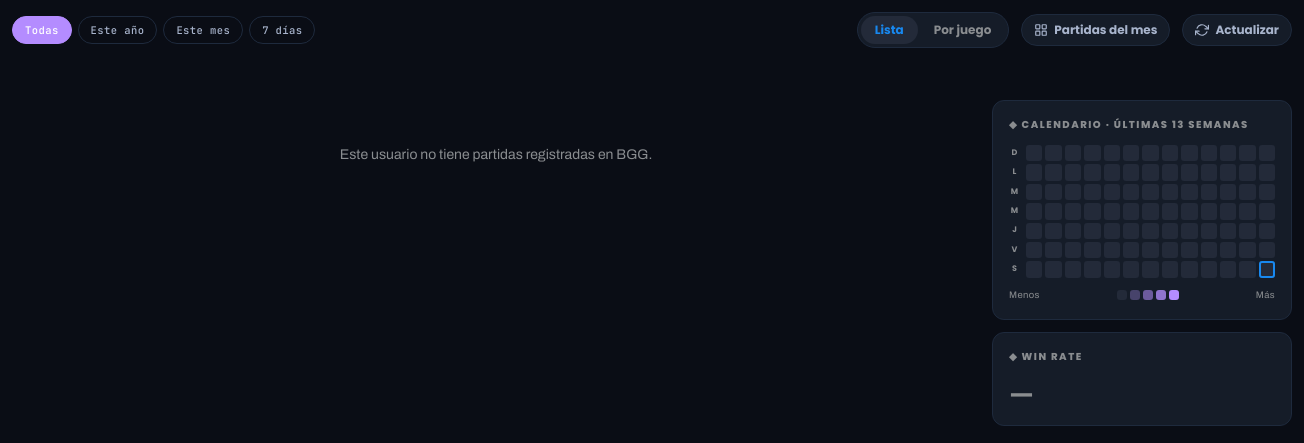
Scenario: <PartidasPanel> › syncs cooldown from a 429 response header
Click the button with aria-label "actualizar partidas" at (1237, 30), box [1182, 14, 1292, 46]
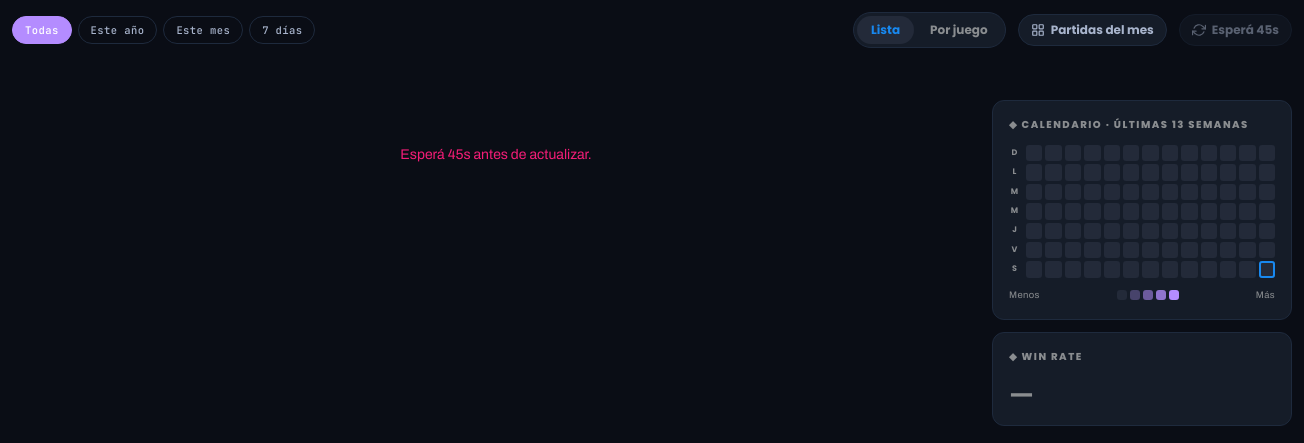
Now the button with aria-label "actualizar partidas" reads "Esperá 45s", box [1179, 14, 1292, 46]
Now the button with aria-label "actualizar partidas" is disabled, box [1179, 14, 1292, 46]
